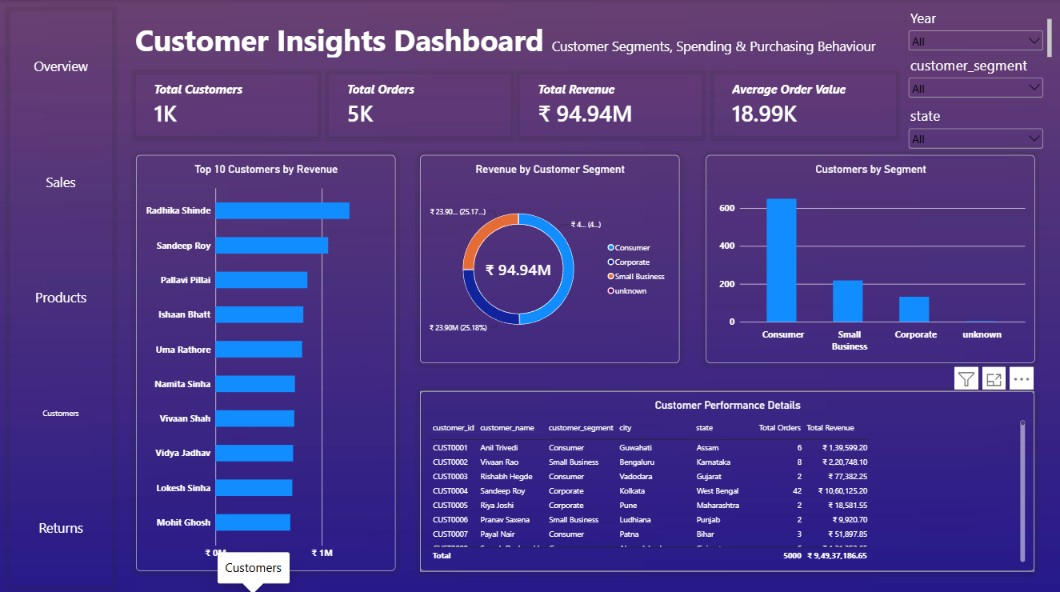

What the dashboard file says about the page in this screenshot:
{"tool":"powerbi","page":{"name":"Customers","canvas":[1920,1080],"ordinal":3},"visuals":[{"type":"pageNavigator","box":[17.4,19.6,184.8,1039.1],"z":0},{"type":"textbox","box":[228.3,19.6,1691.3,100],"z":1000},{"type":"cardVisual","fields":{"Data":["customers.Total Customers"]},"box":[246.7,134.2,328.3,113],"z":2000},{"type":"cardVisual","fields":{"Data":["customers.Total Revenue"]},"box":[941.4,134.2,328.9,112.5],"z":3000},{"type":"cardVisual","fields":{"Data":["customers.Average Order Value"]},"box":[1292,134.2,328.9,112.5],"z":4000},{"type":"cardVisual","fields":{"Data":["customers.Total Orders"]},"box":[595.1,134.2,328.3,113],"z":5000},{"type":"donutChart","title":"Revenue by Customer Segment","fields":{"Category":["customers.customer_segment"],"Y":["customers.Total Revenue"]},"box":[759.6,281.3,469.6,376.6],"z":6000},{"type":"clusteredColumnChart","title":"Customers by Segment","fields":{"Category":["customers.customer_segment"],"Y":["Count(customers.customer_id)"]},"box":[1276.8,281.3,595.1,376.6],"z":7000},{"type":"clusteredBarChart","title":"Top 10 Customers by Revenue","fields":{"Category":["customers.customer_name"],"Y":["customers.Total Revenue"]},"box":[246.7,281.3,469.6,753.1],"z":8000},{"type":"tableEx","title":"Customer Performance Details","fields":{"Values":["customers.customer_id","customers.customer_name","customers.customer_segment","customers.city","customers.state","customers.Total Orders","customers.Total Revenue"]},"box":[759.6,707.7,1112.4,326.8],"z":9000},{"type":"slicer","title":"Category","fields":{"Values":["customers.customer_segment"]},"box":[1640.4,99.6,253.2,84.4],"z":10000},{"type":"slicer","title":"Category","fields":{"Values":["customers.state"]},"box":[1640.4,192.6,253.2,84.4],"z":11000},{"type":"slicer","title":"Category","fields":{"Values":["orders.order_date.Variation.Date Hierarchy.Year"]},"box":[1640.4,15.1,253.2,84.4],"z":12000}]}

Visuals, with their boxes on the page's 1920x1080 design canvas (x1, y1, x2, y2). These are canvas units, not pixel positions in the 1060x592 screenshot, which may show the page scaled, cropped or inside an application window:
pageNavigator: [x1=17, y1=20, x2=202, y2=1059]
textbox: [x1=228, y1=20, x2=1920, y2=120]
cardVisual - customers.Total Customers: [x1=247, y1=134, x2=575, y2=247]
cardVisual - customers.Total Revenue: [x1=941, y1=134, x2=1270, y2=247]
cardVisual - customers.Average Order Value: [x1=1292, y1=134, x2=1621, y2=247]
cardVisual - customers.Total Orders: [x1=595, y1=134, x2=923, y2=247]
"Revenue by Customer Segment" donutChart: [x1=760, y1=281, x2=1229, y2=658]
"Customers by Segment" clusteredColumnChart: [x1=1277, y1=281, x2=1872, y2=658]
"Top 10 Customers by Revenue" clusteredBarChart: [x1=247, y1=281, x2=716, y2=1034]
"Customer Performance Details" tableEx: [x1=760, y1=708, x2=1872, y2=1034]
"Category" slicer: [x1=1640, y1=100, x2=1894, y2=184]
"Category" slicer: [x1=1640, y1=193, x2=1894, y2=277]
"Category" slicer: [x1=1640, y1=15, x2=1894, y2=100]
